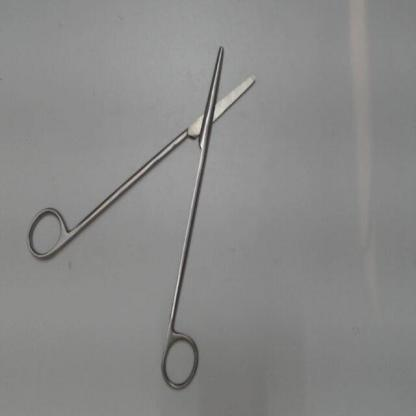9 Metzenbaum Scissors: (21, 40, 262, 399)
